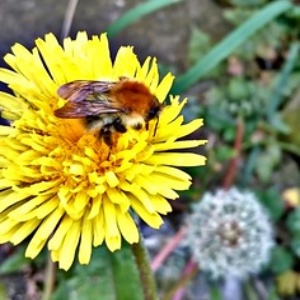bee: (58, 75, 167, 141)
